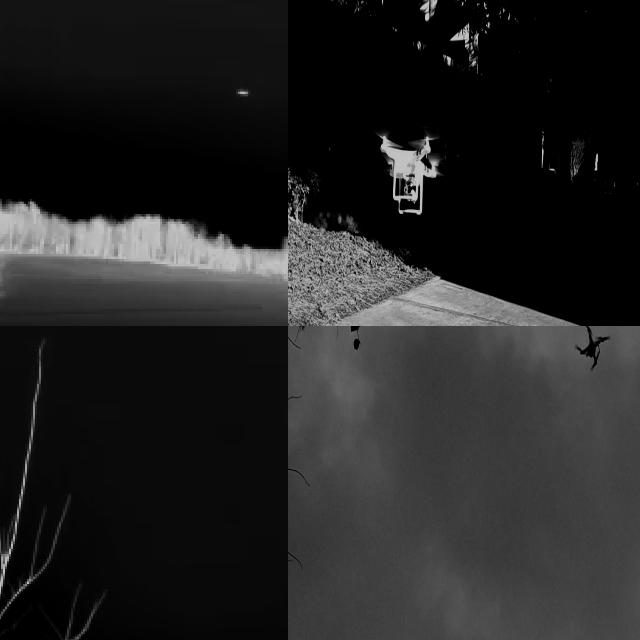1: (227, 82, 259, 112)
drone: (376, 126, 442, 220), (570, 326, 610, 368)
